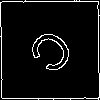C: (25, 25, 84, 84)
